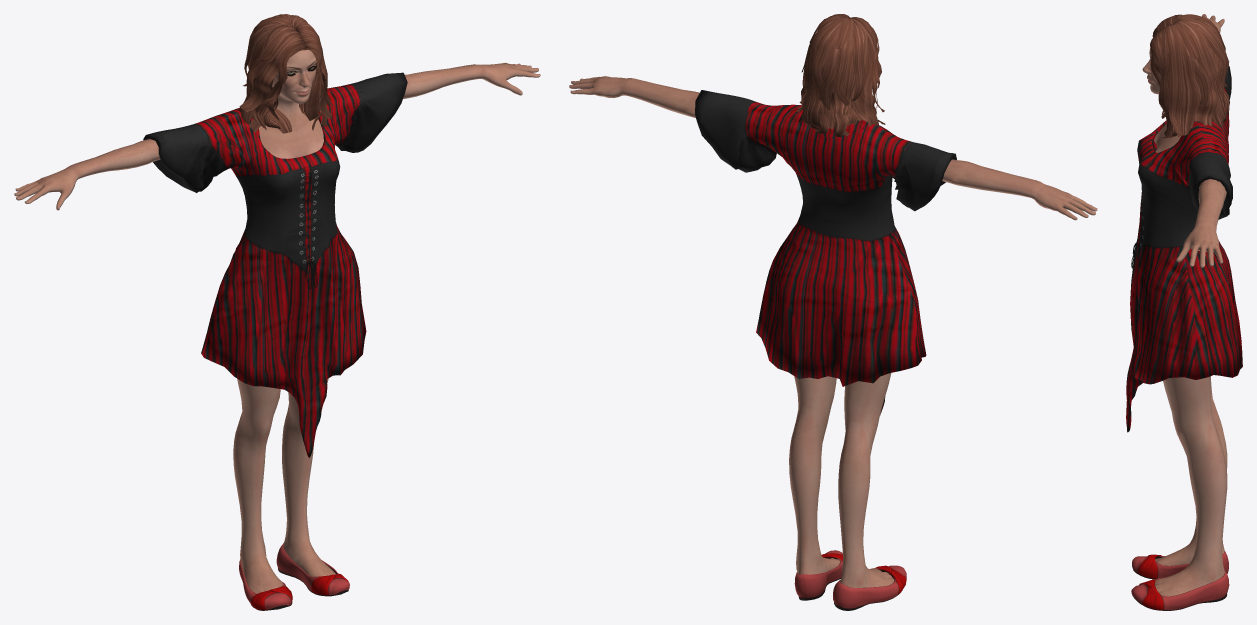
3 views of the same model, side by side, from view 1: azimuth 30°, elevation 25°; view 2: azimuth 150°, elevation 25°; view 3: azimuth 270°, elevation 25° (orthographic).
Visible parts, largest first — view 1: Tops, Body, Hair, Shoes; view 2: Tops, Body, Hair, Shoes; view 3: Tops, Body, Hair, Shoes.
Part boxes in pixels (<box>): Tops: <box>143,72,407,457</box>; Body: <box>14,49,540,593</box>; Hair: <box>239,14,333,133</box>; Shoes: <box>239,543,349,610</box>; Tops: <box>695,90,956,415</box>; Body: <box>569,76,1097,587</box>; Hair: <box>795,14,885,136</box>; Shoes: <box>794,550,906,610</box>; Tops: <box>1126,66,1242,432</box>; Body: <box>1142,14,1227,596</box>; Hair: <box>1150,14,1229,137</box>; Shoes: <box>1131,551,1229,610</box>.
Bounding box in the file's own units: 167 × 175 × 32.41.
Materials: 5 (5 with a texture image).
